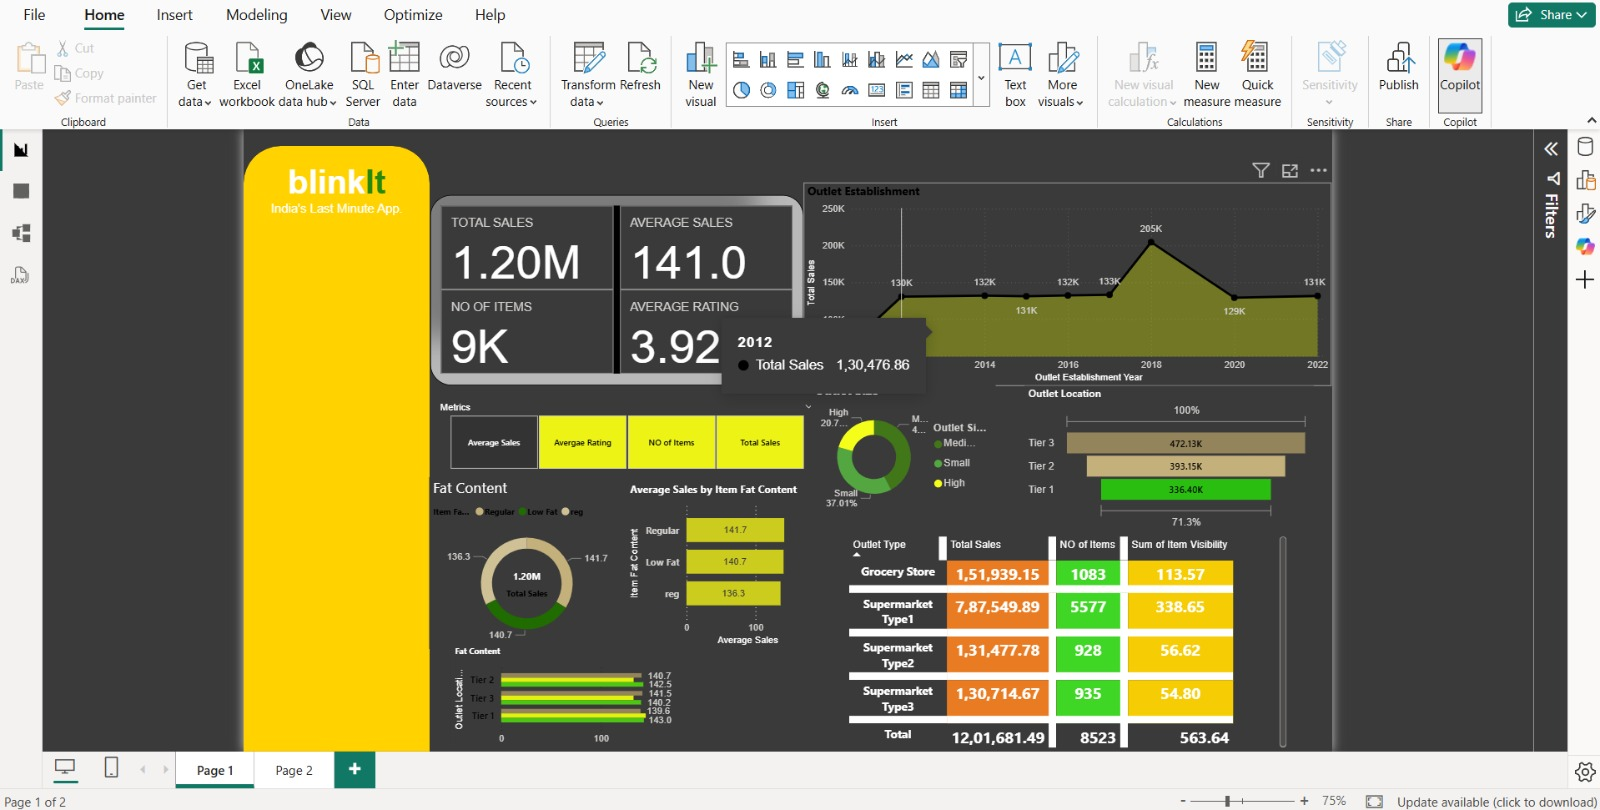

This screenshot's page, from the dashboard's own definition file:
{"tool":"powerbi","page":{"name":"Page 1","canvas":[1400,800],"ordinal":0},"visuals":[{"type":"shape","box":[0,21.7,239.1,778.5],"z":0},{"type":"textbox","box":[0,38.9,239.6,169.6],"z":1000},{"type":"cardVisual","fields":{"Data":["BlinkIT Grocery Data.Total Sales","BlinkIT Grocery Data.Average Sales","BlinkIT Grocery Data.NO of Items","BlinkIT Grocery Data.Avergae Rating"]},"box":[240,85,480,245],"z":2000},{"type":"shape","box":[266.7,362.1,504.2,438],"z":3000},{"type":"donutChart","title":"Fat Content","fields":{"Y":["BlinkIT Grocery Data.Average Sales"],"Category":["BlinkIT Grocery Data.Item Fat Content"]},"box":[239.1,448.4,251.4,220.1],"z":4000},{"type":"slicer","fields":{"Values":["Metrics.Metrics"]},"box":[239.4,346.5,504.2,97.3],"z":5000},{"type":"card","fields":{"Values":["BlinkIT Grocery Data.Total Sales"]},"box":[332.9,559.8,63.9,47.6],"z":6000},{"type":"clusteredBarChart","title":"Fat Content","fields":{"Y":["BlinkIT Grocery Data.Average Sales"],"Series":["BlinkIT Grocery Data.Item Fat Content"],"Category":["BlinkIT Grocery Data.Outlet Location Type"]},"box":[266.7,663.8,299.8,136.3],"z":7000},{"type":"barChart","fields":{"Y":["BlinkIT Grocery Data.Average Sales"],"Category":["BlinkIT Grocery Data.Item Fat Content"]},"box":[491.9,452.4,251.4,214.7],"z":8000},{"type":"lineChart","title":"Outlet Establishment","fields":{"Y":["BlinkIT Grocery Data.Total Sales"],"Category":["BlinkIT Grocery Data.Outlet Establishment Year"]},"box":[720,68.3,680,261.7],"z":9000},{"type":"donutChart","title":"Outlet Size","fields":{"Y":["BlinkIT Grocery Data.Total Sales"],"Category":["BlinkIT Grocery Data.Outlet Size"]},"box":[729.6,323.4,237.8,175.3],"z":10000},{"type":"funnel","title":"Outlet Location","fields":{"Y":["BlinkIT Grocery Data.Total Sales"],"Category":["BlinkIT Grocery Data.Outlet Location Type"]},"box":[1003.6,329.8,370.8,189.4],"z":11000},{"type":"pivotTable","fields":{"Rows":["BlinkIT Grocery Data.Outlet Type"],"Values":["BlinkIT Grocery Data.Total Sales","BlinkIT Grocery Data.NO of Items","Sum(BlinkIT Grocery Data.Item Visibility)"]},"box":[773.1,519,572,281.3],"z":12000}]}

Visuals, with their boxes on the page's 1400x800 design canvas (x1, y1, x2, y2). These are canvas units, not pixel positions in the 1600x810 screenshot, which may show the page scaled, cropped or inside an application window:
shape: 0 22 239 800
textbox: 0 39 240 208
cardVisual - BlinkIT Grocery Data.Total Sales x BlinkIT Grocery Data.Average Sales: 240 85 720 330
shape: 267 362 771 800
"Fat Content" donutChart: 239 448 490 668
slicer - Metrics.Metrics: 239 346 744 444
card - BlinkIT Grocery Data.Total Sales: 333 560 397 607
"Fat Content" clusteredBarChart: 267 664 566 800
barChart - BlinkIT Grocery Data.Average Sales x BlinkIT Grocery Data.Item Fat Content: 492 452 743 667
"Outlet Establishment" lineChart: 720 68 1400 330
"Outlet Size" donutChart: 730 323 967 499
"Outlet Location" funnel: 1004 330 1374 519
pivotTable - BlinkIT Grocery Data.Outlet Type x BlinkIT Grocery Data.Total Sales: 773 519 1345 800
